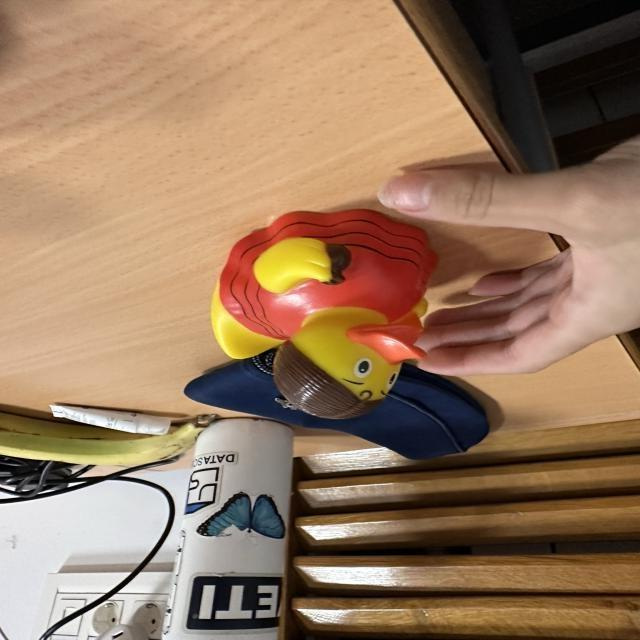rubber-duck: (210, 208, 434, 417)
